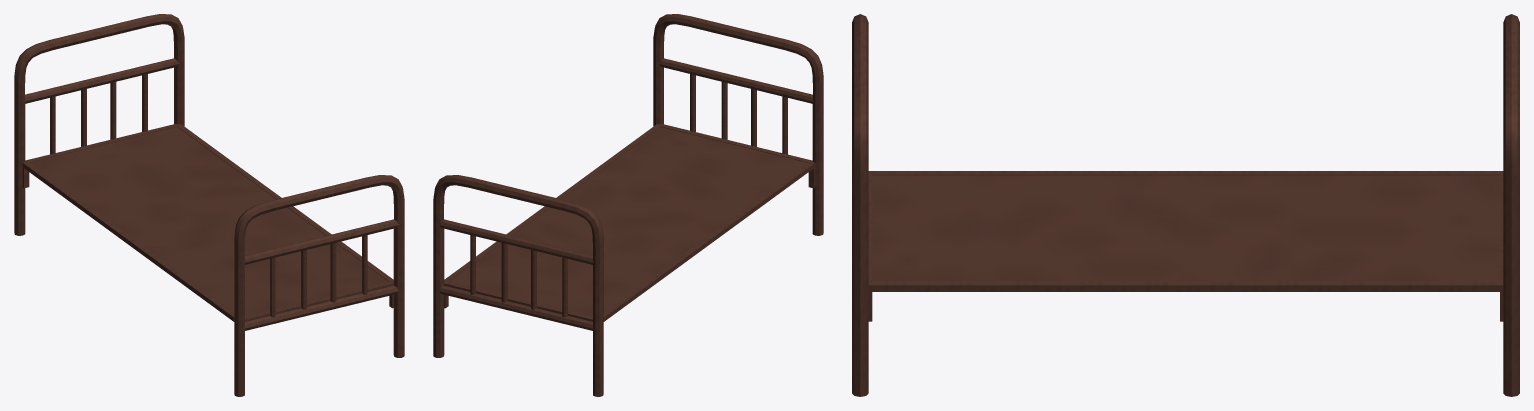
Rendered from Bed1.fbx.
3 renders of one model, left to right at view 1: azimuth 30°, elevation 25°; view 2: azimuth 150°, elevation 25°; view 3: azimuth 270°, elevation 25°, orthographic. The views are drawn at different scales.
Visible parts, largest first — view 1: Cube.030; view 2: Cube.030; view 3: Cube.030.
Part boxes in pixels (<box>): Cube.030: <box>14,14,404,396</box>; Cube.030: <box>433,14,823,396</box>; Cube.030: <box>852,14,1519,396</box>.
Bounding box in the file's own units: 137 × 144 × 316.
